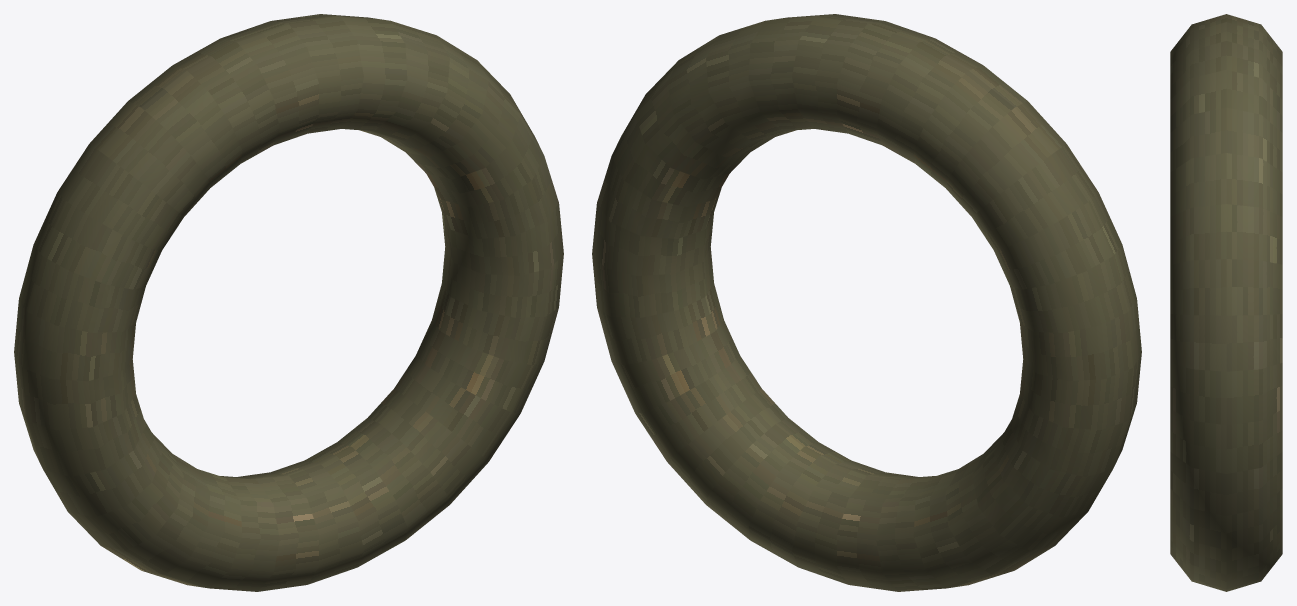
Rendered from strap.glb.
3 renders of one model, left to right at view 1: azimuth 30°, elevation 25°; view 2: azimuth 150°, elevation 25°; view 3: azimuth 270°, elevation 25°, orthographic. The views are drawn at different scales.
Visible parts, largest first — view 1: loop; view 2: loop; view 3: loop.
Boxes of the visible parts, x1,y1,x2,y2 form: loop: (14, 14, 563, 591); loop: (592, 14, 1141, 591); loop: (1170, 14, 1282, 591).
Bounding box in the file's own units: 0.18 × 0.18 × 0.035.
Materials: 1 (1 with a texture image).
